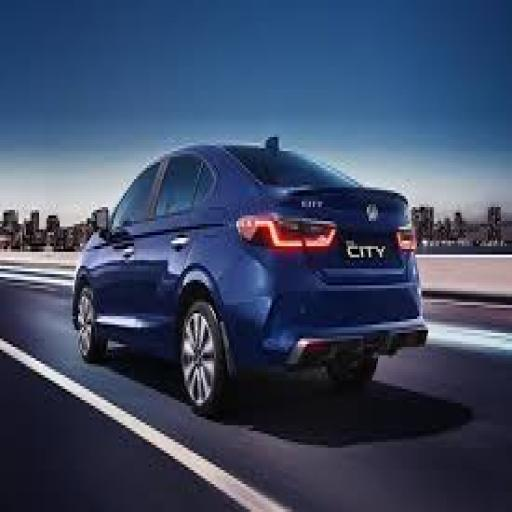License: (341, 232, 397, 265)
